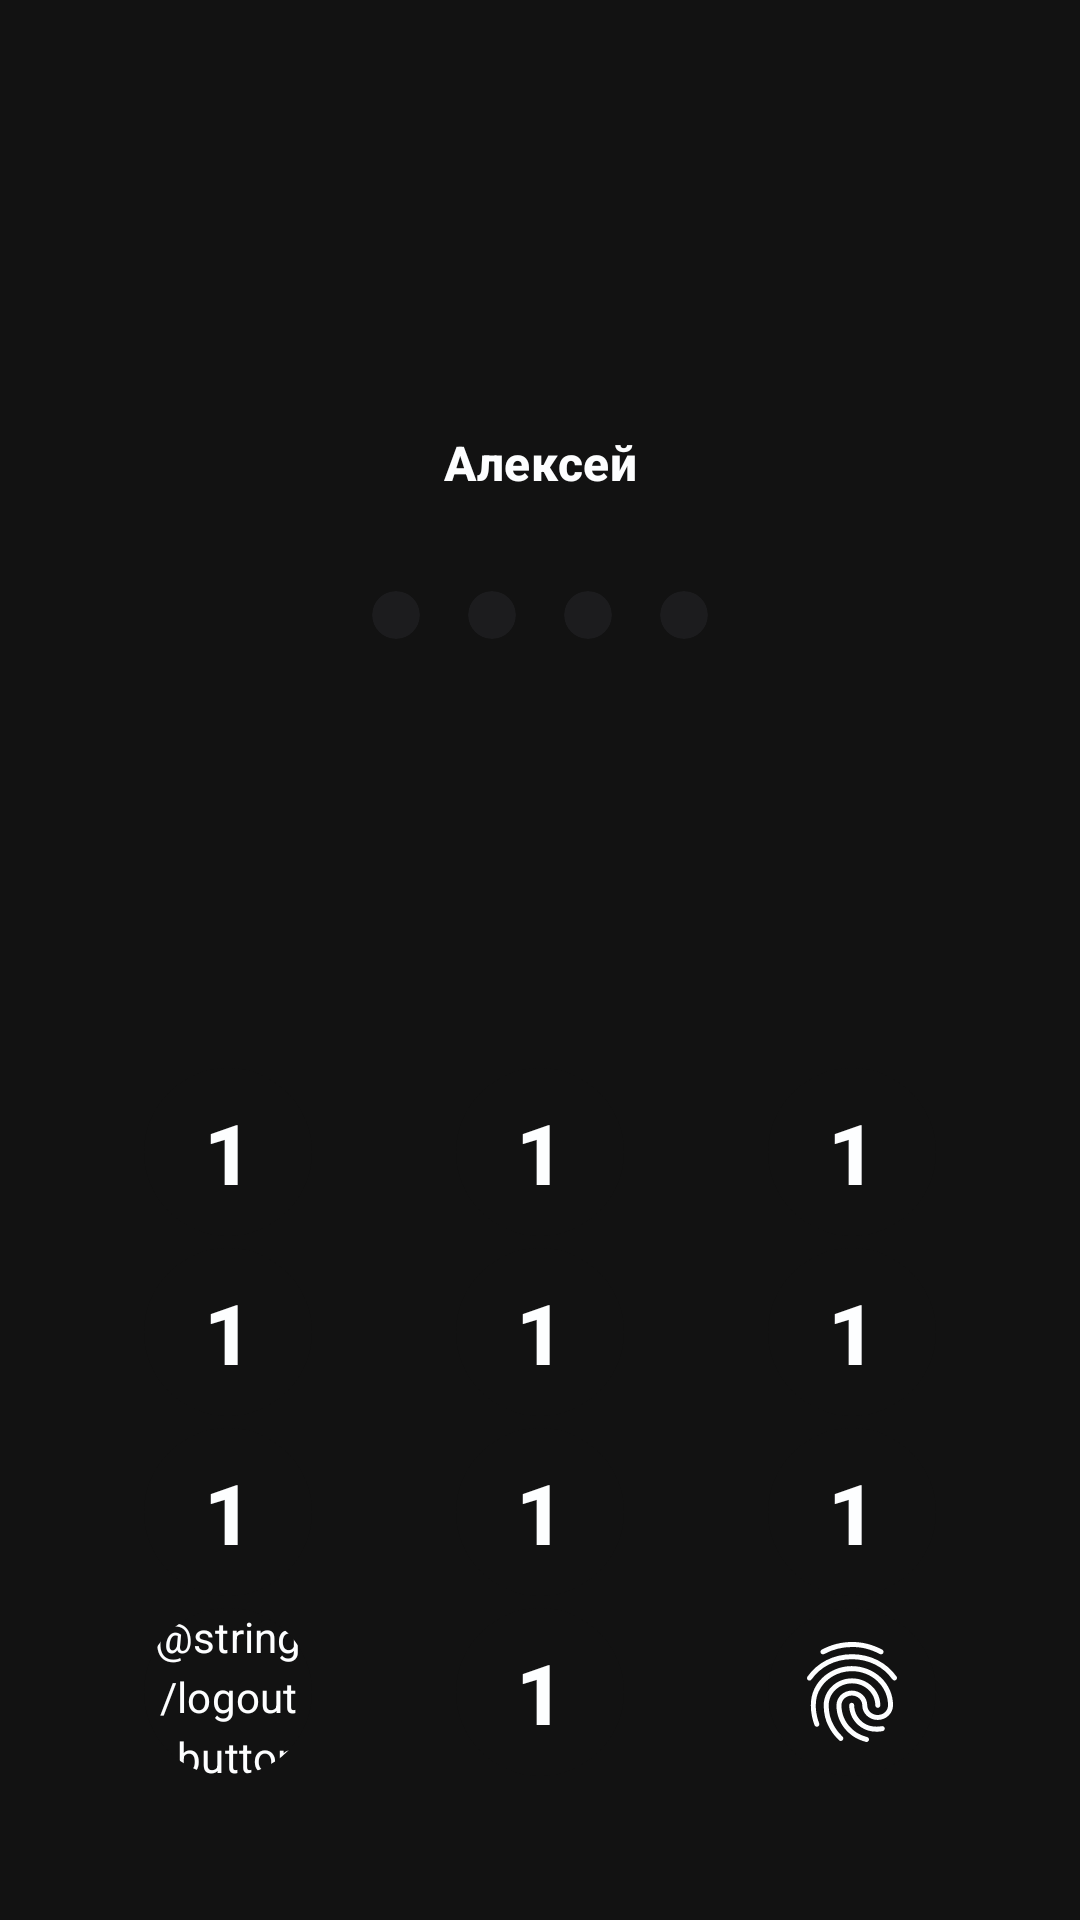

Screen size 1080px×1920px. Icon name, then its box in pixels as (x1, y1, x2, y2):
fingerprint: (807, 1642, 897, 1742)
